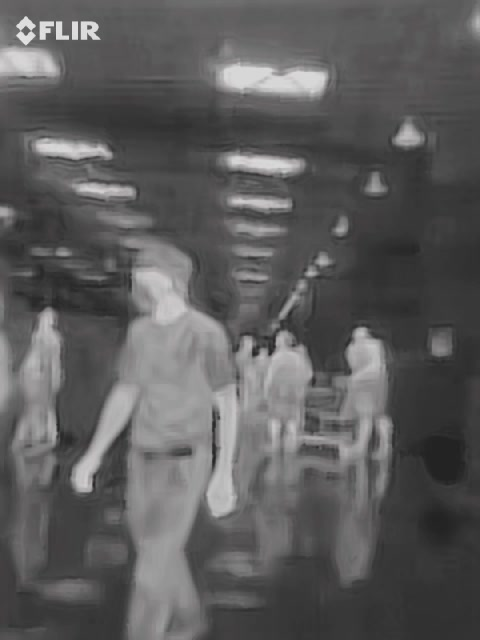head: (130, 246, 191, 315)
